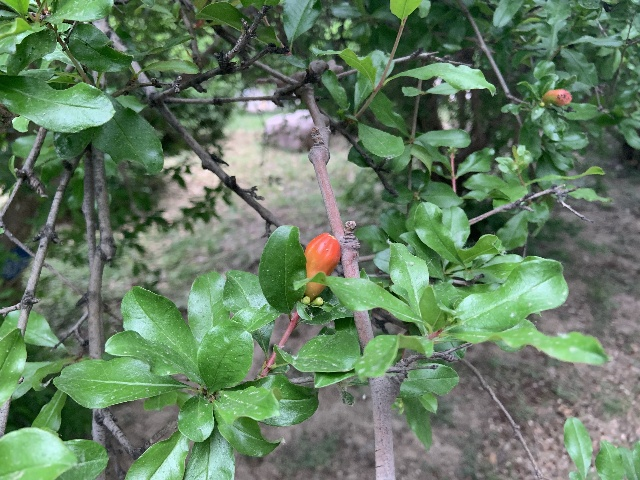bud: (304, 232, 340, 294), (545, 89, 572, 106)
